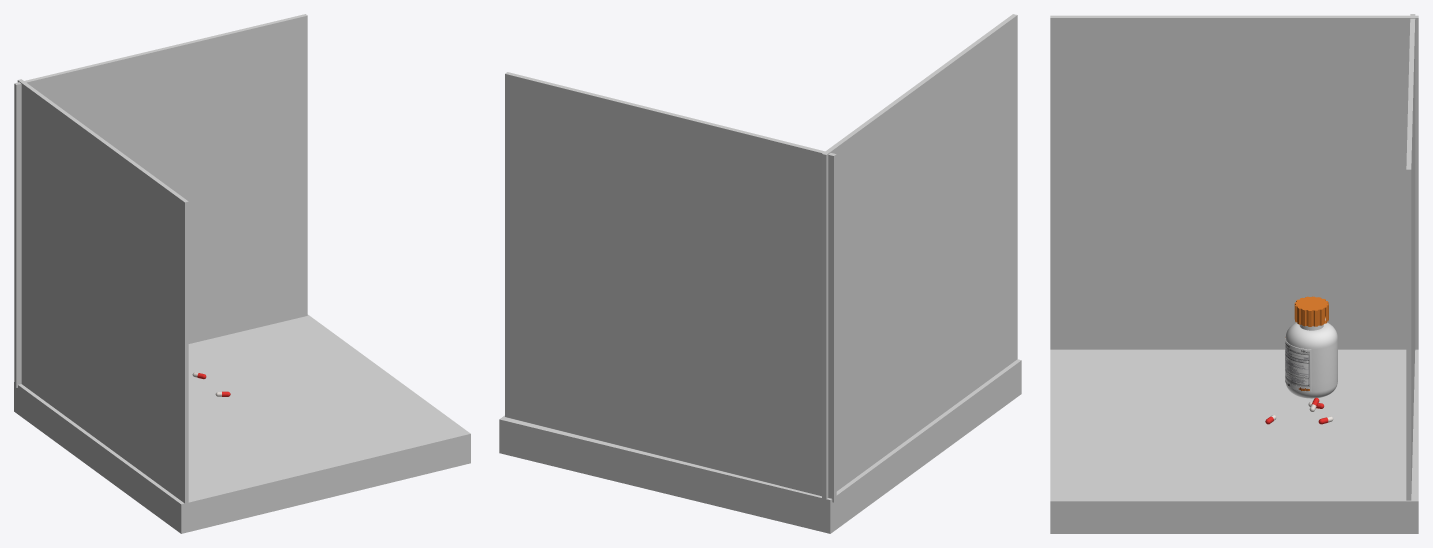
File: bottlemedicine.fbx
The picture shows the model from 3 angles, left to right: view 1: azimuth 30°, elevation 25°; view 2: azimuth 150°, elevation 25°; view 3: azimuth 270°, elevation 25°; orthographic projection. The views are drawn at different scales.
Parts seen in each view (by area): view 1: TABLE.002, TABLE.001, TABLE; view 2: TABLE.002, TABLE.001, TABLE; view 3: TABLE.001, TABLE, TABLE.002, BOTTLE, LABEL, LID.
Part boxes in pixels (x1=…): TABLE.002: x1=14, y1=14, x2=307, y2=387; TABLE.001: x1=17, y1=79, x2=188, y2=505; TABLE: x1=14, y1=314, x2=470, y2=533; TABLE.002: x1=505, y1=72, x2=836, y2=502; TABLE.001: x1=822, y1=14, x2=1017, y2=498; TABLE: x1=499, y1=359, x2=1021, y2=533; TABLE.001: x1=1050, y1=15, x2=1418, y2=349; TABLE: x1=1050, y1=349, x2=1418, y2=533; TABLE.002: x1=1406, y1=14, x2=1415, y2=500; BOTTLE: x1=1285, y1=318, x2=1337, y2=398; LABEL: x1=1285, y1=337, x2=1311, y2=391; LID: x1=1294, y1=296, x2=1328, y2=326.
Bounding box in the file's own units: 1.42 × 1.54 × 1.41.
